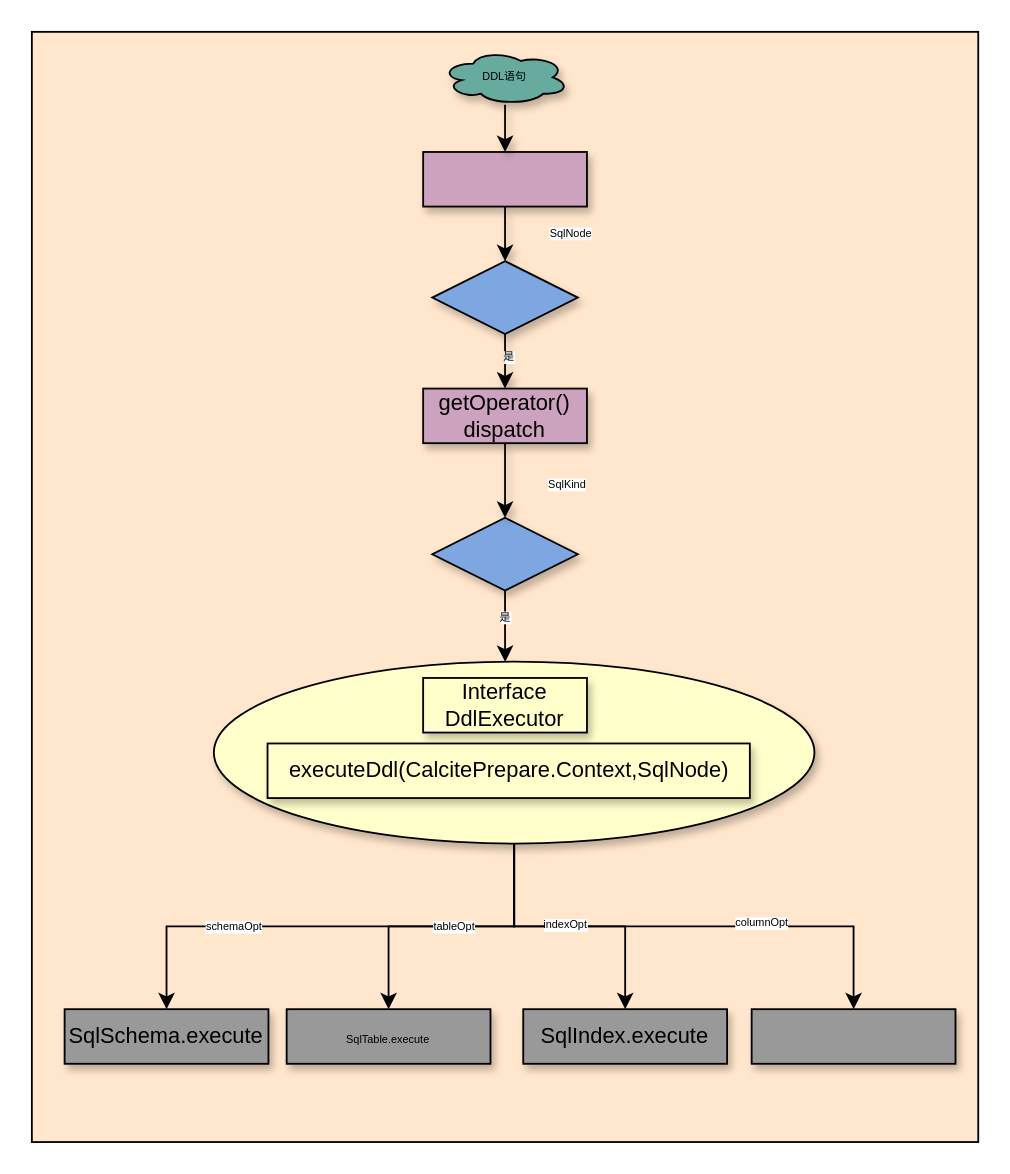
Image size: 1010x1174. Some labels were removed from this diagram. The shapes that lost their labels are listed below. From the top down, each one's centre as x and y in pixels, then its label:
At [506,181]: "SQL Parser".
At [506,299]: "SqlCall?".
At [506,556]: "DDL?".
At [854,1038]: "SqlColumn.execute".
